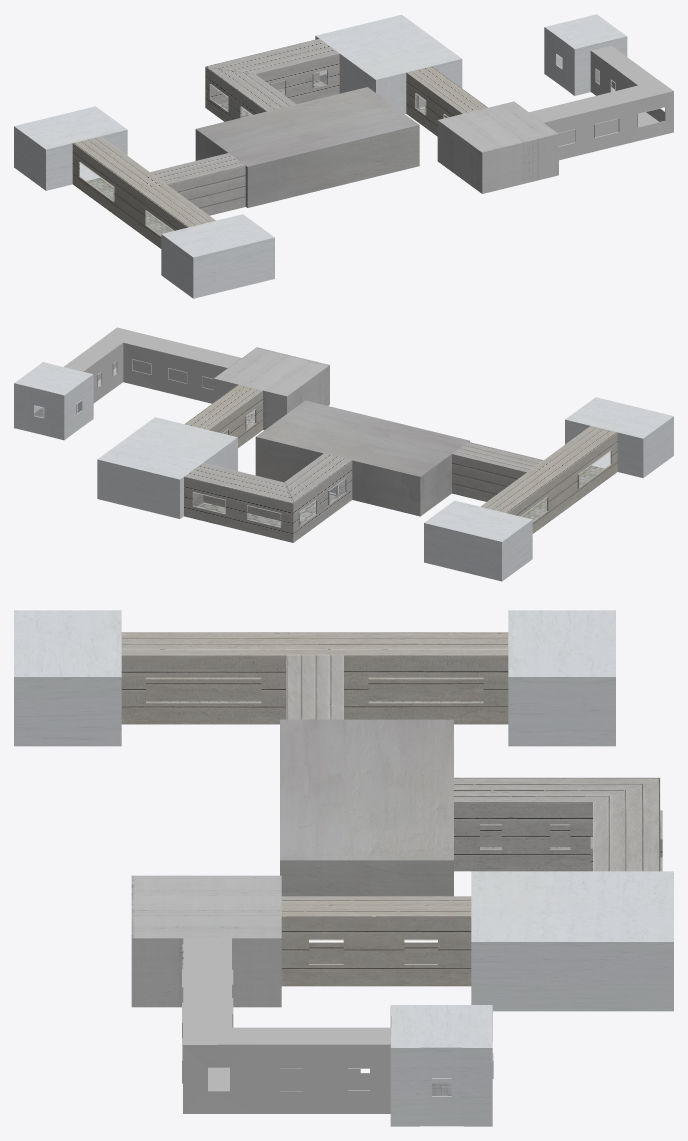
File: Level.FBX
The picture shows the model from 3 angles, top to bottom: view 1: azimuth 30°, elevation 25°; view 2: azimuth 150°, elevation 25°; view 3: azimuth 270°, elevation 25°; orthographic projection. The views are drawn at different scales.
Parts seen in each view (by area): view 1: Level; view 2: Level; view 3: Level.
Boxes of the visible parts, left/top/right/bottom form: Level: left=14, top=14, right=673, bottom=298; Level: left=14, top=327, right=673, bottom=581; Level: left=14, top=610, right=673, bottom=1126.
Size of the model in its own units: 122 by 10 by 76.04.
